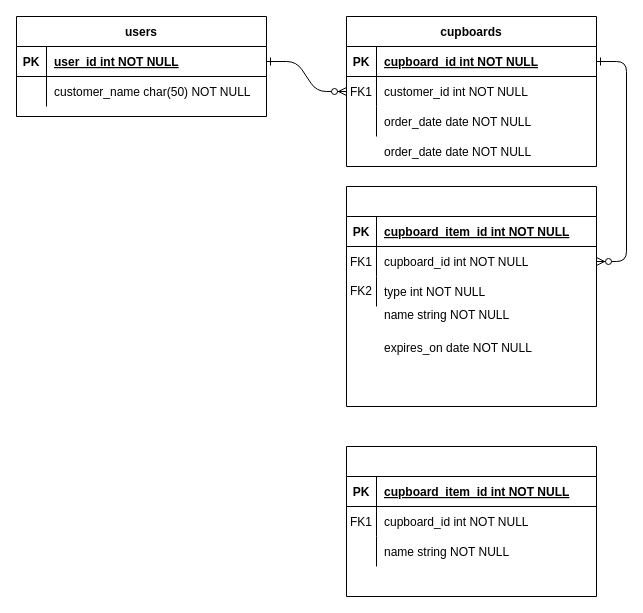
The diagram is 643 pixels wide and 613 high, and some of its shapes have lost their labels. The shapes that lost their labels are listed below. From the top down, each one's box as (x1, y1, x2, y2) in pixels, then its label:
(346, 186, 596, 406): cupboard_items
(346, 446, 596, 596): cupboard_item_type
